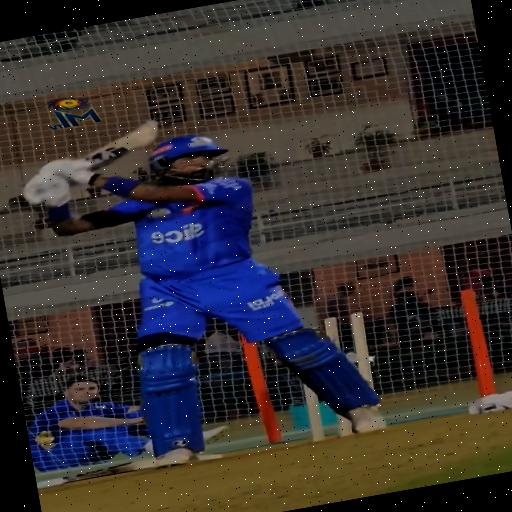Cricket bat: (85, 119, 158, 168)
